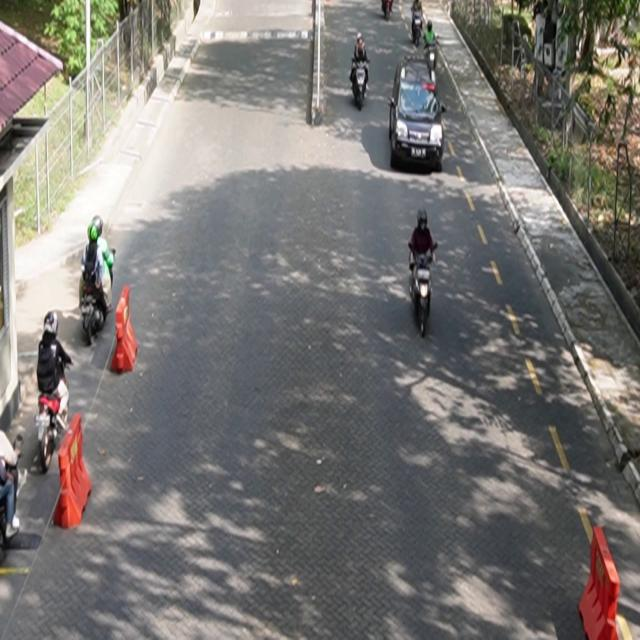car: (389, 55, 448, 174)
